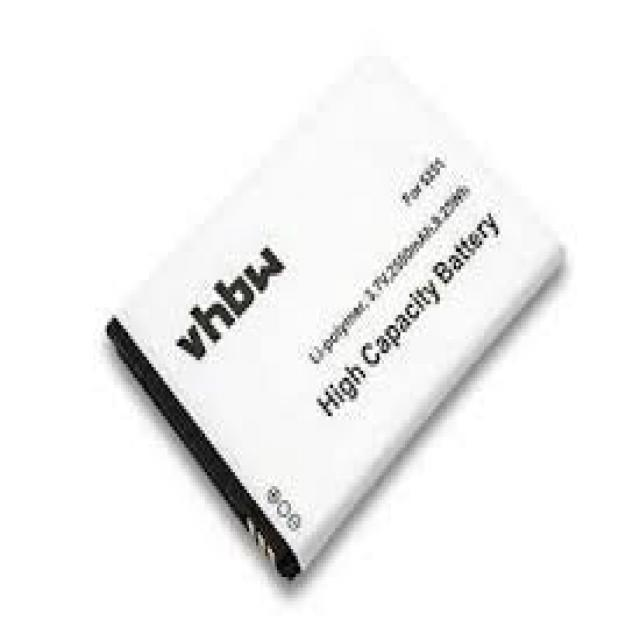battery: (104, 62, 568, 580)
